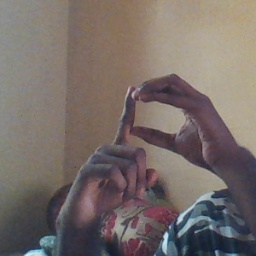P: (79, 74, 222, 202)
